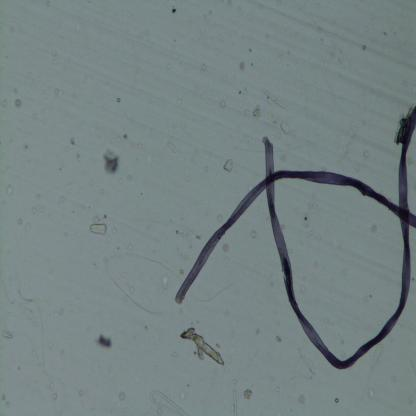Background material: (180, 326, 224, 366), (342, 119, 362, 160), (101, 147, 121, 175), (322, 78, 337, 104), (88, 221, 108, 235), (98, 332, 113, 350), (174, 247, 188, 264), (280, 118, 292, 136), (169, 140, 180, 156), (160, 273, 171, 289), (361, 148, 370, 167), (252, 104, 262, 120), (300, 212, 310, 228), (328, 44, 338, 60), (49, 48, 58, 65), (223, 159, 234, 172), (53, 86, 65, 97), (296, 395, 306, 408), (117, 390, 126, 404), (174, 230, 188, 238), (243, 389, 253, 400), (221, 242, 231, 253), (248, 227, 257, 238), (23, 222, 32, 233), (368, 388, 376, 400), (309, 200, 318, 210), (370, 221, 378, 232), (0, 392, 7, 404), (48, 380, 55, 392), (173, 97, 183, 105), (14, 98, 22, 108), (215, 214, 223, 224), (7, 184, 13, 196), (275, 384, 281, 396), (126, 173, 134, 182), (220, 98, 226, 109), (315, 233, 323, 241), (58, 306, 65, 315), (141, 321, 148, 330), (299, 284, 306, 292), (172, 1, 176, 14), (281, 152, 286, 162), (137, 140, 142, 150), (31, 349, 38, 356), (201, 64, 207, 72), (78, 390, 84, 398), (225, 0, 233, 6), (218, 33, 223, 42), (70, 137, 75, 146), (32, 320, 38, 327), (172, 353, 178, 360), (341, 268, 347, 275), (47, 341, 53, 348), (44, 0, 51, 6), (240, 62, 245, 70), (53, 392, 58, 400), (323, 60, 328, 68), (193, 235, 201, 240), (76, 153, 80, 162), (116, 136, 120, 145), (287, 248, 293, 254), (16, 365, 22, 371), (232, 378, 238, 384), (382, 30, 388, 36), (16, 219, 22, 225), (128, 244, 134, 250), (93, 217, 100, 222), (281, 224, 286, 231), (276, 336, 281, 343), (122, 134, 127, 141), (316, 1, 320, 9), (324, 316, 328, 324), (102, 212, 106, 220), (100, 188, 104, 196), (32, 206, 36, 214), (129, 287, 135, 292), (2, 101, 7, 107), (118, 178, 123, 184), (354, 167, 360, 172), (180, 268, 184, 275), (61, 196, 65, 203), (310, 230, 315, 235), (112, 229, 117, 234), (41, 207, 45, 213), (165, 66, 171, 70), (340, 339, 344, 345), (238, 91, 242, 96), (274, 122, 279, 126), (362, 91, 366, 96), (117, 98, 120, 104), (368, 294, 372, 298), (320, 38, 324, 42), (9, 138, 12, 143), (393, 31, 396, 36), (363, 45, 366, 50), (287, 50, 290, 55), (248, 49, 252, 52), (250, 62, 253, 66), (25, 145, 28, 148)
Cotton: (257, 108, 416, 371), (173, 168, 416, 303)
Glass filter fibre: (106, 247, 176, 314), (362, 344, 385, 393), (16, 278, 42, 319), (150, 389, 186, 416), (297, 346, 315, 378), (262, 88, 286, 110), (0, 311, 14, 339), (233, 389, 238, 416), (130, 77, 136, 95), (411, 360, 416, 374), (335, 397, 339, 403)
